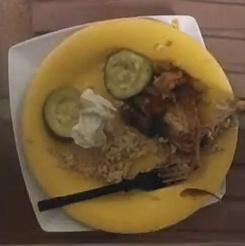curry: (69, 123, 152, 184), (44, 88, 118, 147), (105, 49, 153, 100)
